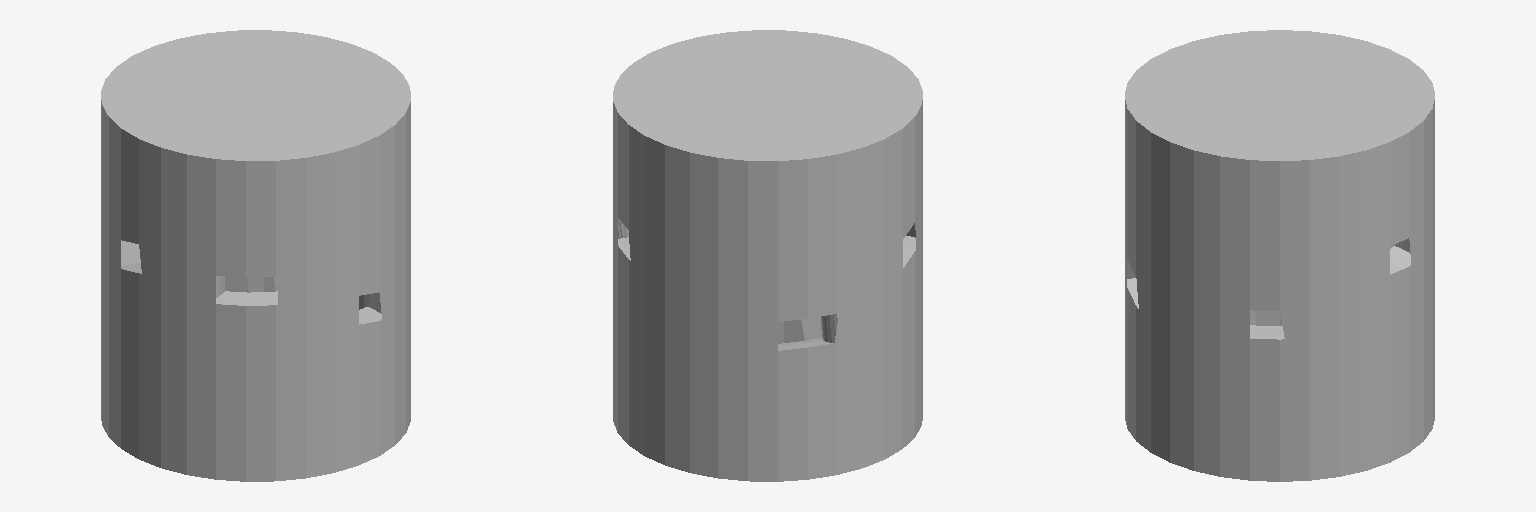
The model's file is track 10_tower.obj.
3 views of the same model, side by side, from view 1: azimuth 30°, elevation 25°; view 2: azimuth 150°, elevation 25°; view 3: azimuth 270°, elevation 25° (orthographic).
Visible parts, largest first — view 1: Cylinder; view 2: Cylinder; view 3: Cylinder.
Boxes of the visible parts, <box> form: Cylinder: <box>101,30,410,481</box>; Cylinder: <box>613,30,922,481</box>; Cylinder: <box>1125,30,1434,481</box>.
Size of the model in its own units: 200 by 228 by 200.